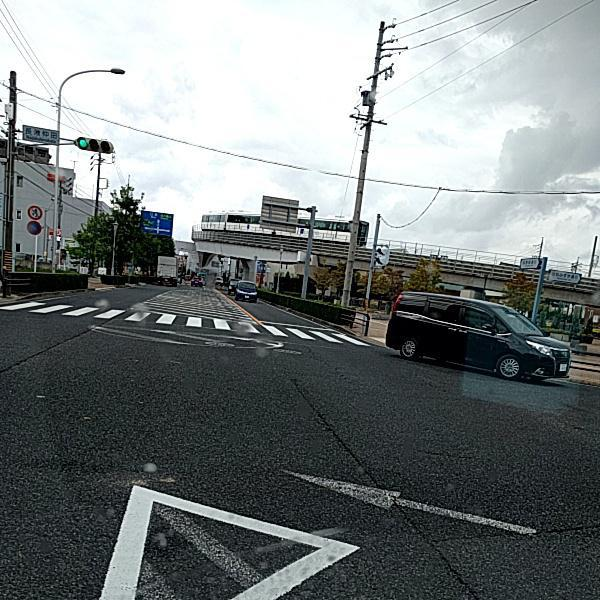D00: (292, 371, 379, 486), (395, 506, 479, 599)
